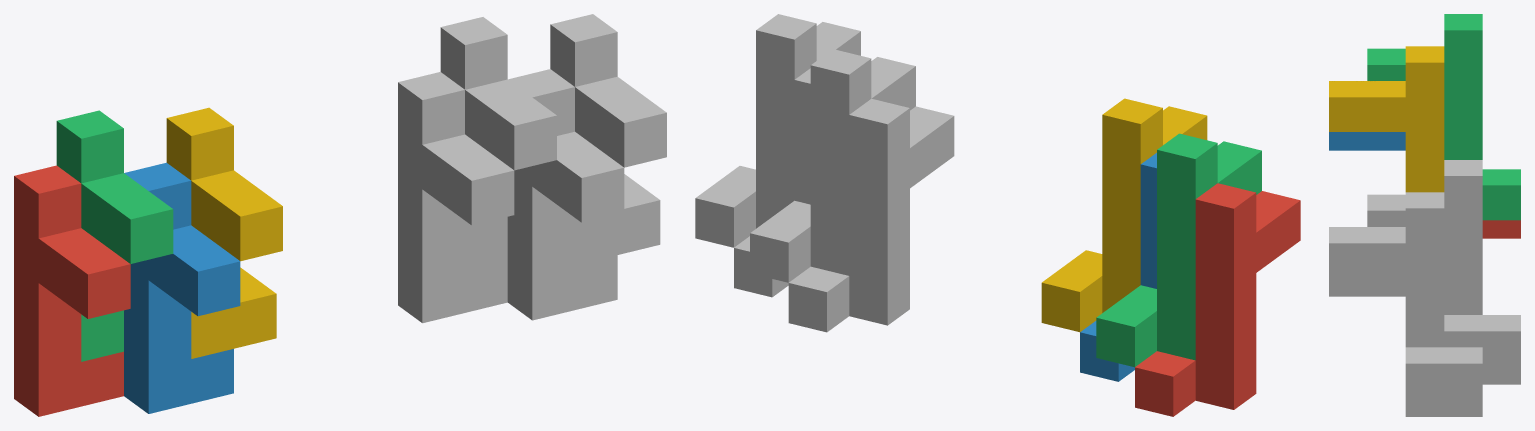
The model's file is tiling.obj.
3 renders of one model, left to right at view 1: azimuth 30°, elevation 25°; view 2: azimuth 150°, elevation 25°; view 3: azimuth 270°, elevation 25°, orthographic. The views are drawn at different scales.
Visible parts, largest first — view 1: copy_1_domain_1, copy_1_domain_5, copy_1_domain_2, copy_1_domain_6, copy_1_domain_4, copy_1_domain_8, copy_1_domain_3, copy_1_domain_7; view 2: copy_1_domain_1, copy_1_domain_5, copy_1_domain_7, copy_1_domain_3, copy_1_domain_4, copy_1_domain_8, copy_1_domain_2, copy_1_domain_6; view 3: copy_1_domain_8, copy_1_domain_7, copy_1_domain_4, copy_1_domain_3, copy_1_domain_6, copy_1_domain_2, copy_1_domain_1, copy_1_domain_5.
Part boxes in pixels (x1,y1,x2,y2): copy_1_domain_1: (14,165,130,416); copy_1_domain_5: (398,72,514,323); copy_1_domain_2: (124,162,240,413); copy_1_domain_6: (507,69,624,320); copy_1_domain_4: (166,107,282,358); copy_1_domain_8: (550,14,666,265); copy_1_domain_3: (56,110,173,361); copy_1_domain_7: (440,17,556,268); copy_1_domain_1: (1135,183,1300,416); copy_1_domain_5: (788,98,954,332); copy_1_domain_7: (750,49,915,282); copy_1_domain_3: (1096,133,1261,367); copy_1_domain_4: (1041,98,1207,332); copy_1_domain_8: (695,14,860,247); copy_1_domain_2: (1080,153,1156,381); copy_1_domain_6: (734,68,810,297); copy_1_domain_8: (1329,192,1482,398); copy_1_domain_7: (1367,160,1520,365); copy_1_domain_4: (1329,46,1444,192); copy_1_domain_3: (1367,14,1520,220); copy_1_domain_6: (1329,278,1482,416); copy_1_domain_2: (1329,132,1405,150); copy_1_domain_1: (1482,220,1520,238); copy_1_domain_5: (1482,366,1520,384).
Bounding box in the file's own units: 14 × 6 × 5.
